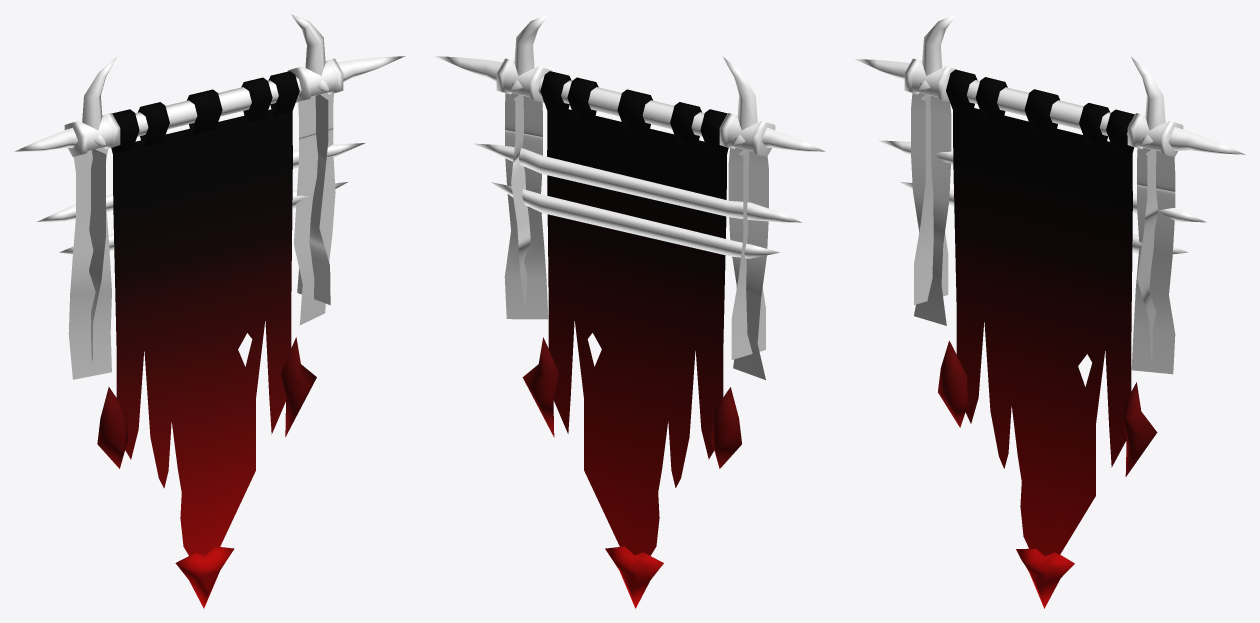
Rendered from SM_Prop_Banner_03.fbx.
3 renders of one model, left to right at view 1: azimuth 30°, elevation 25°; view 2: azimuth 150°, elevation 25°; view 3: azimuth 330°, elevation 25°, orthographic.
Parts seen in each view (by area): view 1: SM_Prop_Banner_03_Flag, SM_Prop_Banner_03; view 2: SM_Prop_Banner_03_Flag, SM_Prop_Banner_03; view 3: SM_Prop_Banner_03_Flag, SM_Prop_Banner_03.
Part boxes in pixels (x1=…): SM_Prop_Banner_03_Flag: x1=97, y1=71, x2=316, y2=608; SM_Prop_Banner_03: x1=14, y1=14, x2=405, y2=379; SM_Prop_Banner_03_Flag: x1=522, y1=71, x2=741, y2=608; SM_Prop_Banner_03: x1=434, y1=14, x2=825, y2=379; SM_Prop_Banner_03_Flag: x1=938, y1=69, x2=1157, y2=608; SM_Prop_Banner_03: x1=854, y1=14, x2=1245, y2=374.
Size of the model in its own units: 171 by 239 by 20.51.
